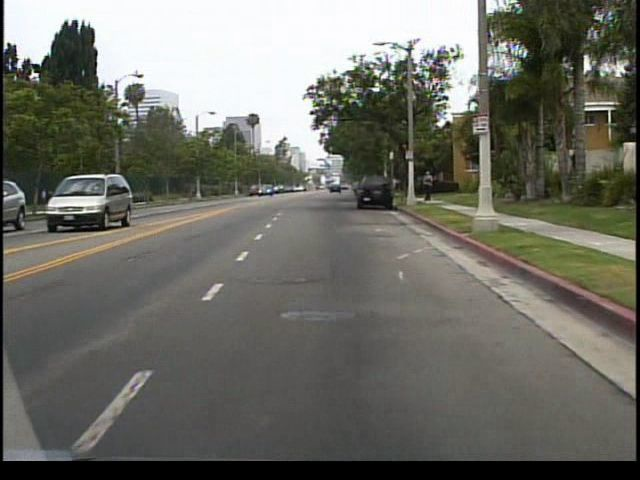person: (420, 169, 435, 205), (428, 168, 429, 204)
